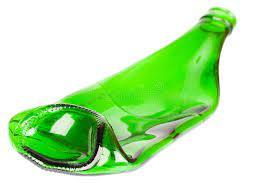plastic: (10, 11, 236, 175)
